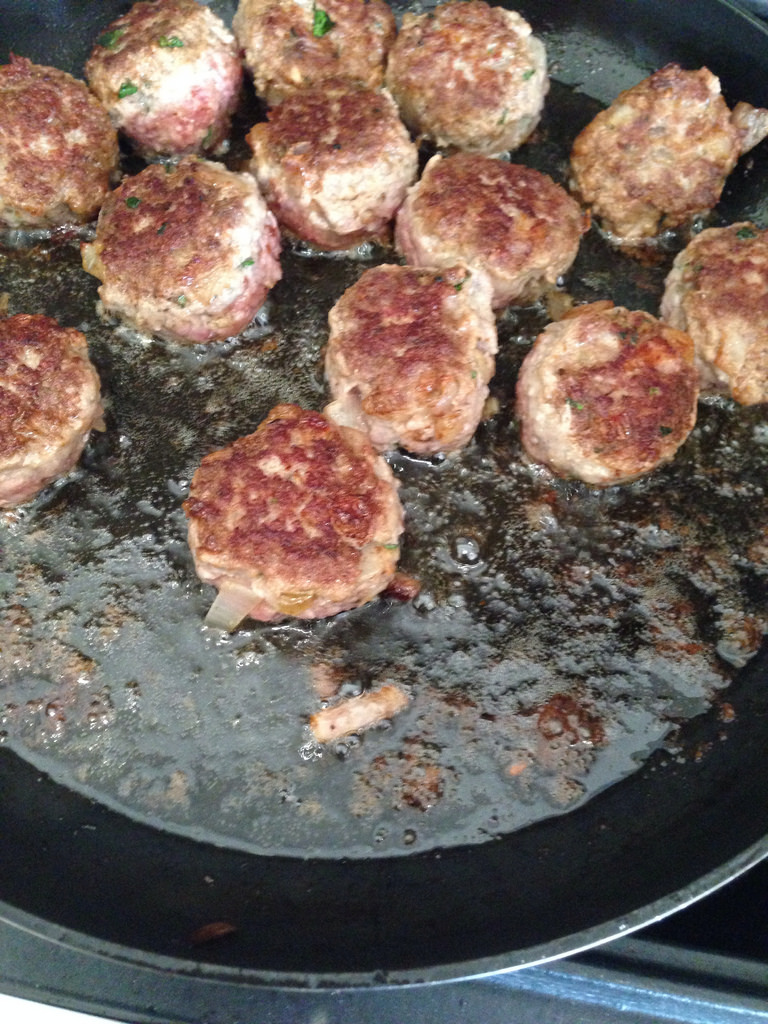meatballs: (1, 1, 768, 603), (177, 413, 404, 642), (72, 163, 280, 353), (320, 269, 506, 472), (525, 305, 711, 491), (575, 57, 750, 249), (243, 96, 419, 244), (388, 3, 549, 157), (83, 1, 241, 155), (2, 310, 108, 502), (661, 217, 768, 396)
